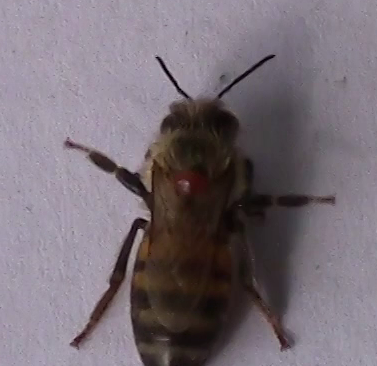Varroa destructor: (172, 166, 211, 198)
